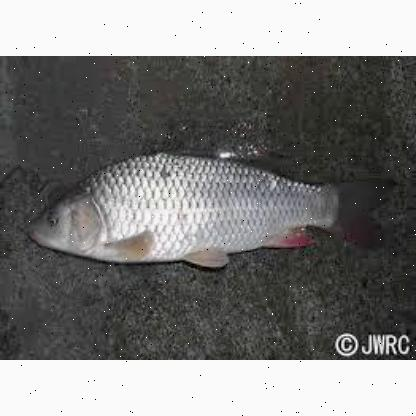ikan-mas: (30, 150, 356, 264)
